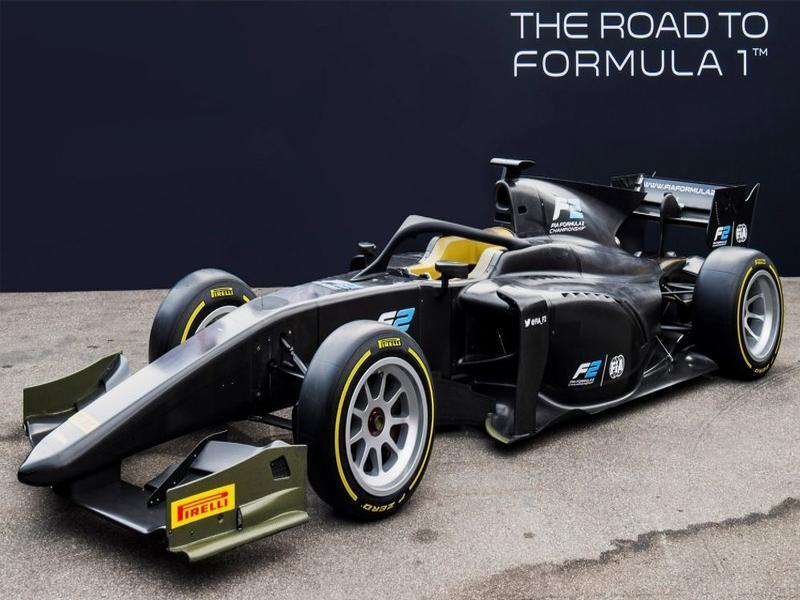f1: (29, 109, 800, 564)
